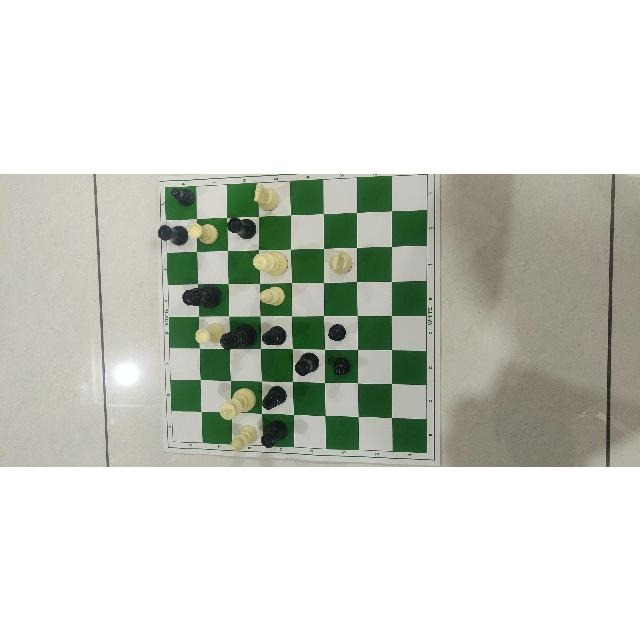black-bishop: (261, 383, 287, 410), (259, 324, 287, 347)
black-king: (221, 319, 256, 351)
black-pawn: (169, 186, 195, 206), (332, 354, 352, 377), (326, 321, 345, 343)
black-queen: (179, 282, 219, 307)
black-rook: (225, 214, 256, 240), (260, 418, 286, 447), (159, 222, 185, 248), (295, 351, 320, 377)
white-bishop: (228, 422, 256, 451), (256, 282, 287, 306)
white-king: (216, 384, 258, 421)
white-knight: (251, 179, 279, 213), (327, 246, 352, 278)
white-queen: (251, 248, 288, 276)
white-rook: (187, 217, 221, 246), (192, 320, 223, 344)
